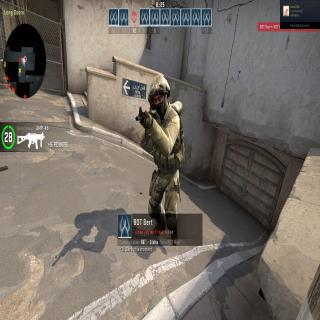CT-Body: (139, 79, 187, 242)
CT-Head: (144, 75, 172, 112)
